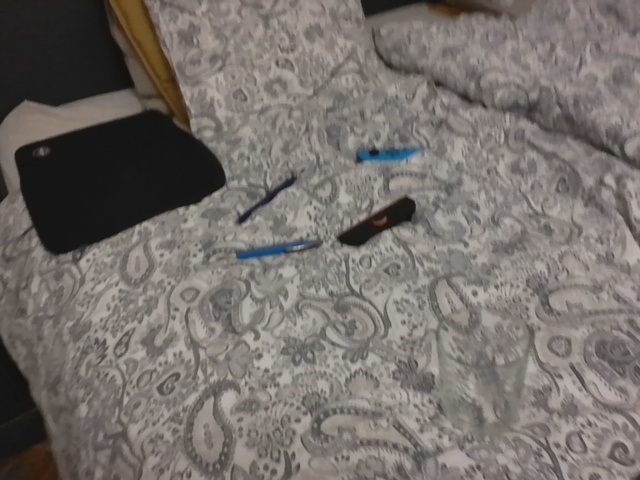glass: (427, 296, 532, 432)
joycon: (341, 193, 428, 248), (352, 146, 434, 167)
pen: (236, 167, 300, 228), (233, 232, 323, 263)
